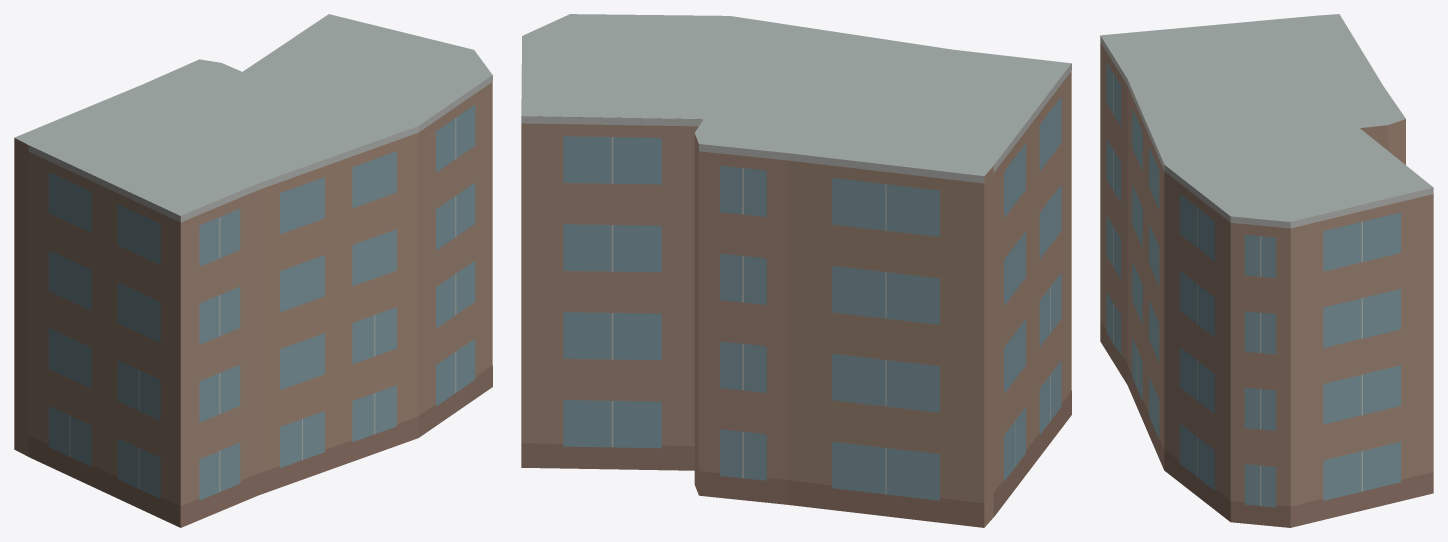
File: survey-upis-33013269.glb
3 renders of one model, left to right at view 1: azimuth 30°, elevation 25°; view 2: azimuth 150°, elevation 25°; view 3: azimuth 270°, elevation 25°, orthographic. The views are drawn at different scales.
Parts seen in each view (by area): view 1: survey-upis-33013269.tmp; view 2: survey-upis-33013269.tmp; view 3: survey-upis-33013269.tmp.
Boxes of the visible parts, x1,y1,x2,y2 form: survey-upis-33013269.tmp: (14,14,492,527); survey-upis-33013269.tmp: (521,14,1071,527); survey-upis-33013269.tmp: (1100,14,1433,527).
Bounding box in the file's own units: 17.09 × 11.7 × 11.57.
